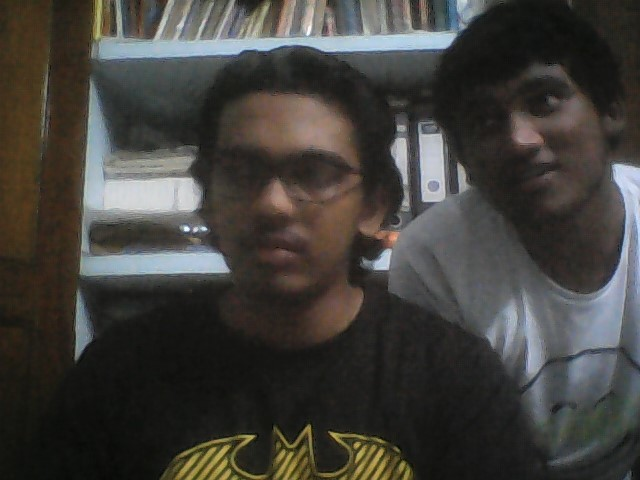person: (47, 46, 514, 478), (390, 1, 640, 290)
